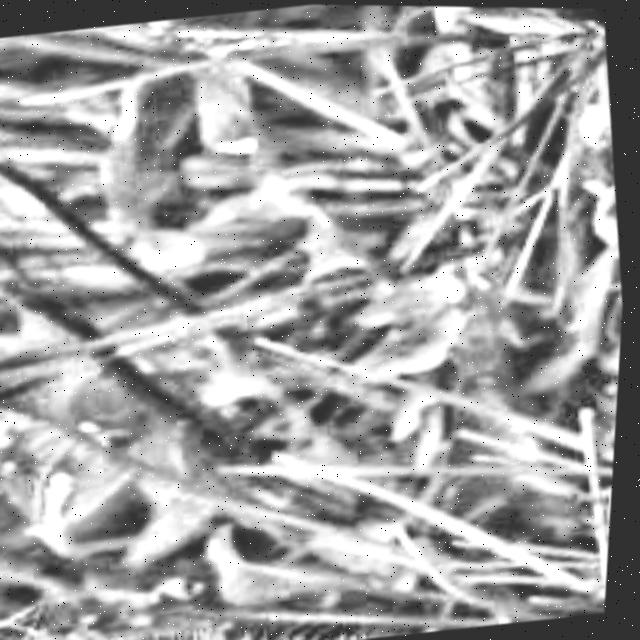rabbit: (0, 490, 611, 640)
